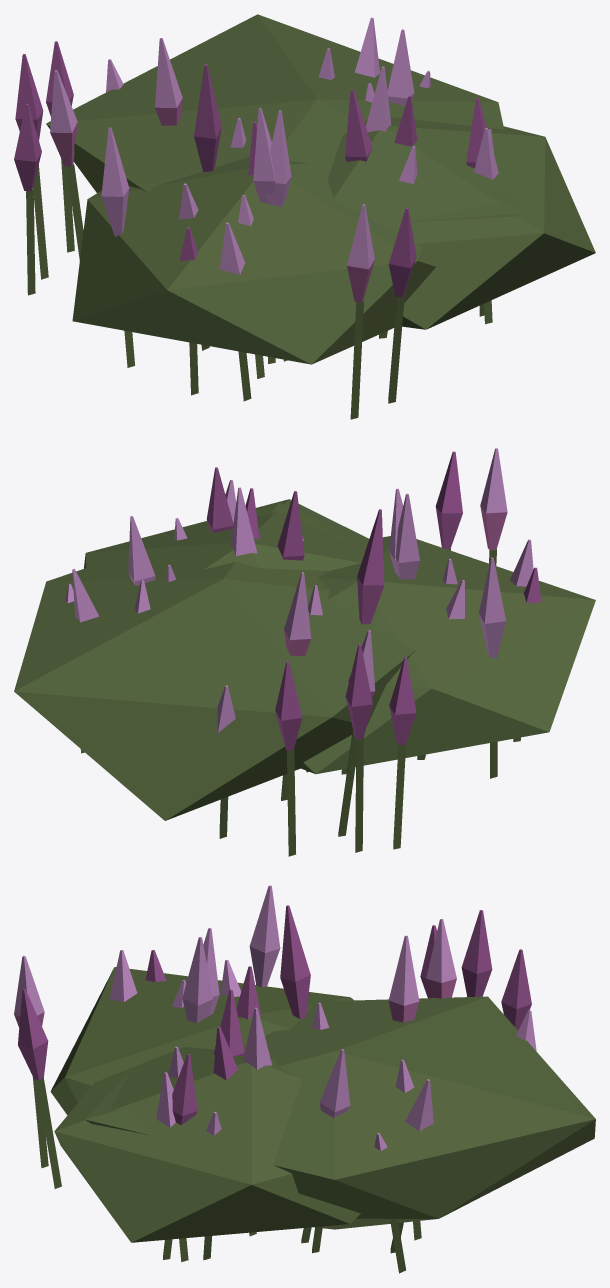
File: ljungtuva_2.glb
3 views of the same model, one above another, from view 1: azimuth 30°, elevation 25°; view 2: azimuth 150°, elevation 25°; view 3: azimuth 270°, elevation 25° (orthographic). The views are drawn at different scales.
Parts seen in each view (by area): view 1: ljungtuva_2; view 2: ljungtuva_2; view 3: ljungtuva_2.
Boxes of the visible parts, x1,y1,x2,y2 form: ljungtuva_2: (14, 14, 595, 419); ljungtuva_2: (14, 448, 595, 856); ljungtuva_2: (14, 885, 595, 1273).
Size of the model in its own units: 1.29 by 0.7087 by 1.43.
